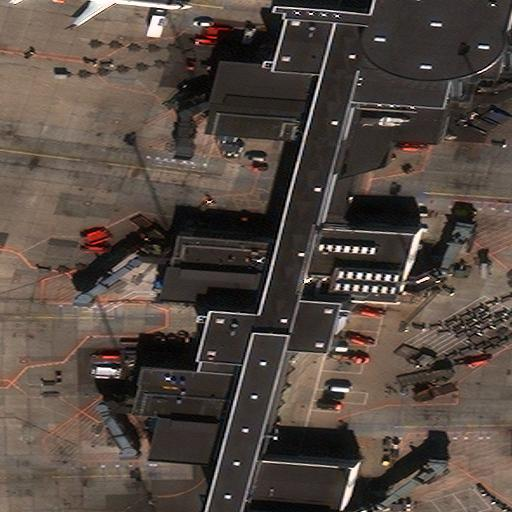Medium Civil Transport: (29, 0, 193, 26)
